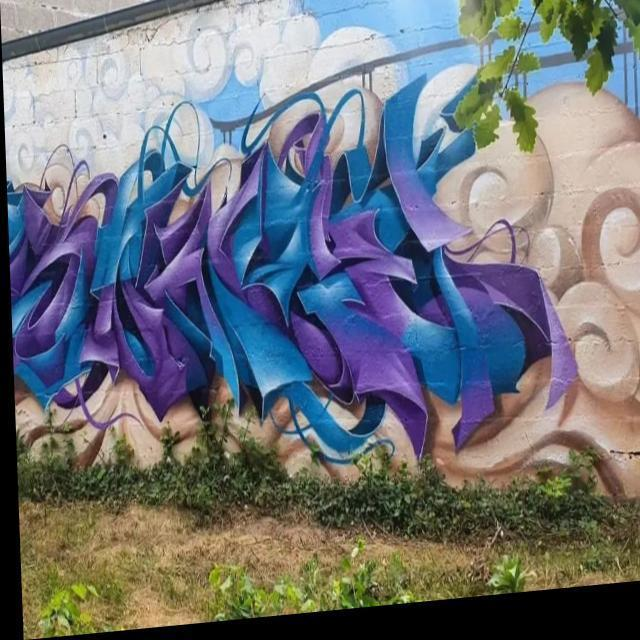-: (4, 84, 640, 560)
